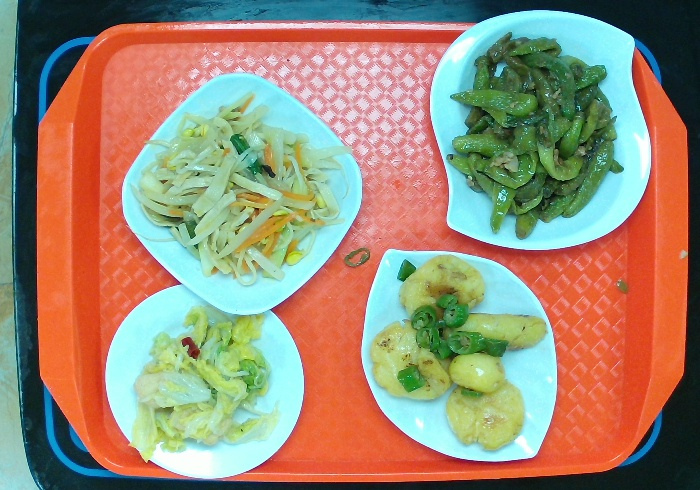RJxy-Da_Du_Pan: (354, 242, 567, 470)
RJxy-Shuang_Jiao_Pan: (412, 5, 655, 257)
RJxy-Si_Fang_Wan: (118, 65, 368, 316)
RJxy-Xiao_Yuan_Die: (99, 279, 311, 483)
